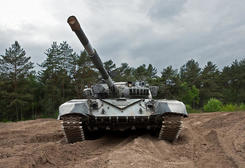t72: (60, 15, 183, 139)
